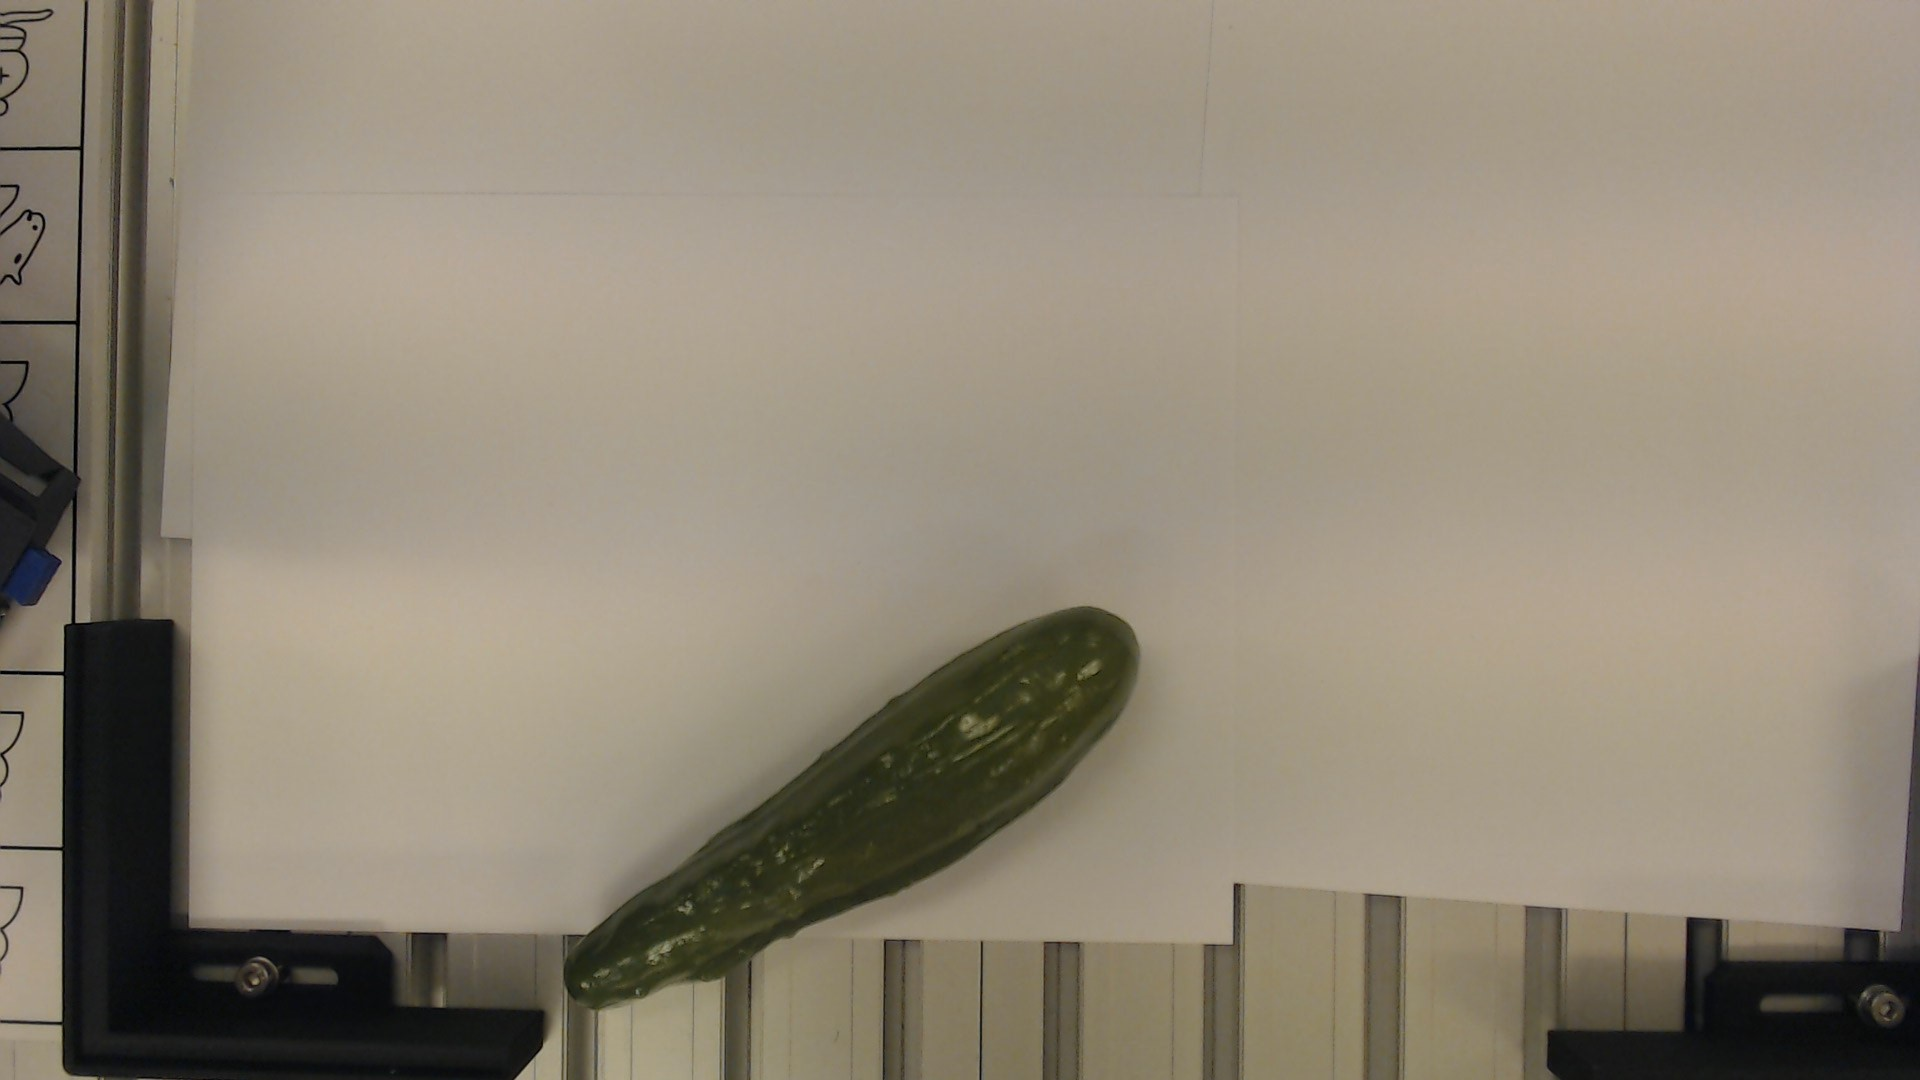Cucumber: (558, 599, 1145, 1011)
